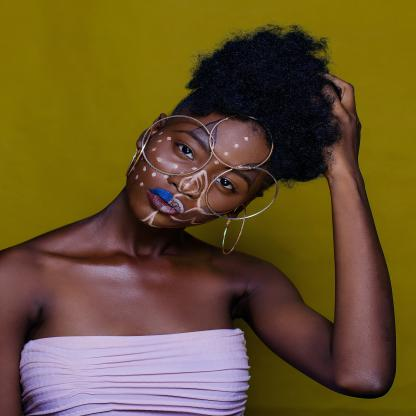Eye: (168, 139, 203, 164), (214, 175, 242, 194)
Mouth: (140, 186, 186, 218)
Nose: (169, 170, 208, 199)
